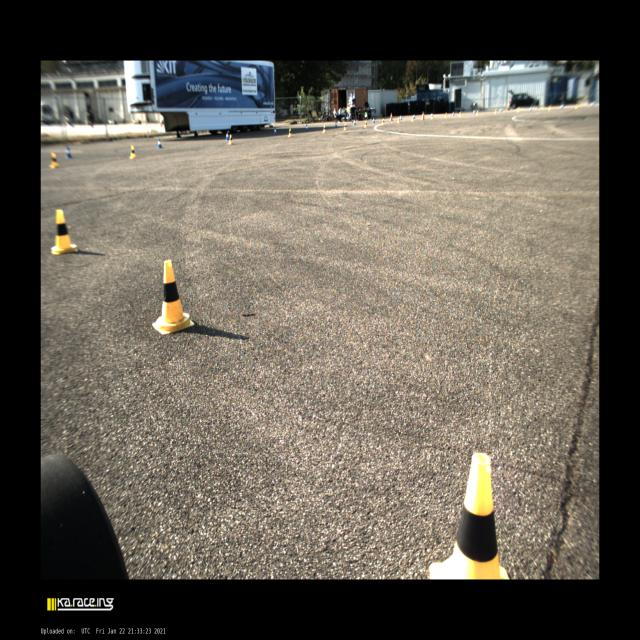blue_cone: (66, 146, 72, 158), (158, 138, 162, 148), (225, 132, 229, 140), (273, 127, 277, 135), (372, 117, 375, 123), (306, 124, 308, 131), (335, 121, 337, 128), (354, 120, 356, 126)
large_orange_cone: (390, 113, 393, 121), (422, 111, 424, 120)
yellow_cone: (429, 453, 509, 579), (152, 260, 195, 335), (51, 210, 77, 254), (49, 152, 59, 168), (130, 145, 136, 159), (228, 134, 233, 144), (288, 128, 292, 136), (381, 118, 385, 125), (323, 125, 326, 133), (344, 123, 347, 131), (364, 121, 367, 127), (398, 117, 400, 123)
